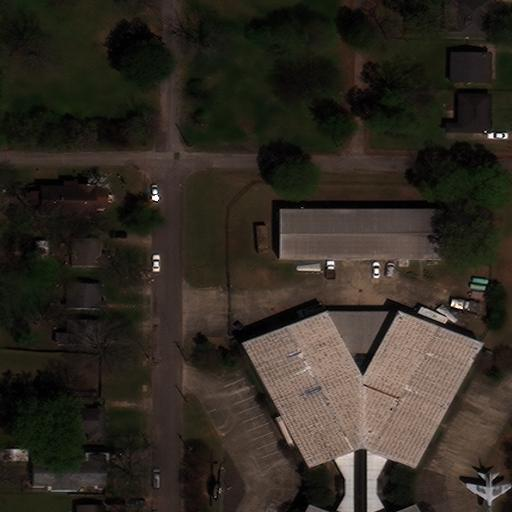Military Fighter: (465, 470, 512, 511)
